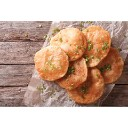poori: (68, 68, 104, 105), (82, 26, 111, 68), (35, 47, 68, 81), (50, 28, 86, 58), (56, 56, 88, 88), (98, 46, 124, 84)
